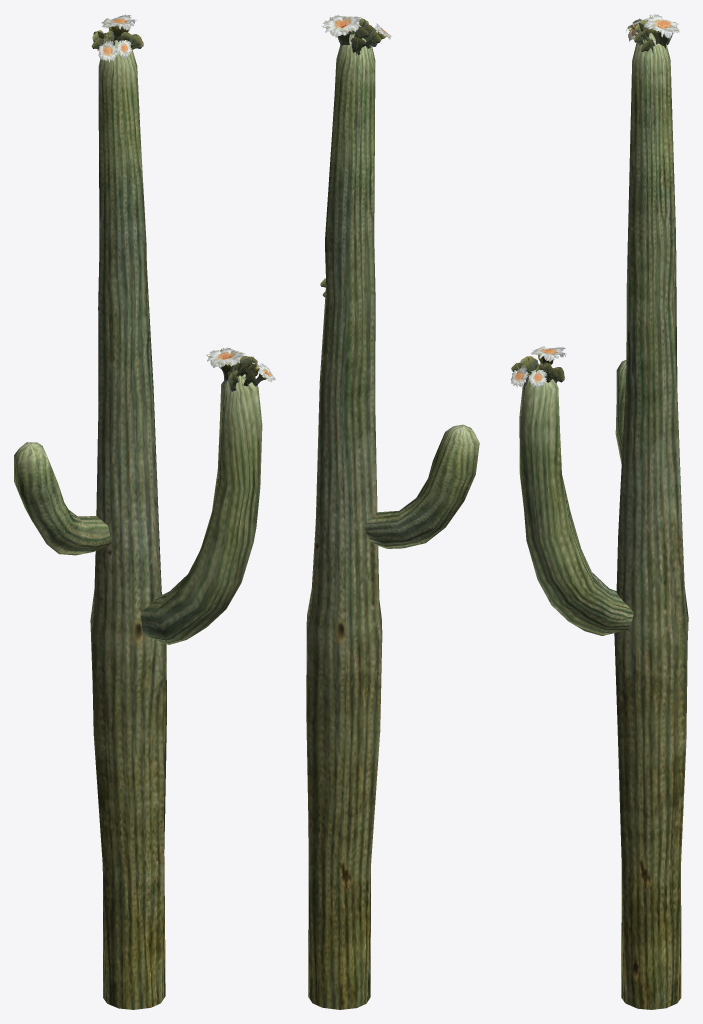
The model's file is DesertPlant01_FlowerC.FBX.
3 views of the same model, side by side, from view 1: azimuth 30°, elevation 25°; view 2: azimuth 150°, elevation 25°; view 3: azimuth 270°, elevation 25° (orthographic).
Parts seen in each view (by area): view 1: DesertPlant01_FlowerC; view 2: DesertPlant01_FlowerC; view 3: DesertPlant01_FlowerC.
Part boxes in pixels (x1,y1,x2,y2): DesertPlant01_FlowerC: [14, 14, 275, 1009]; DesertPlant01_FlowerC: [306, 15, 479, 1009]; DesertPlant01_FlowerC: [511, 14, 688, 1009].
Size of the model in its own units: 6.84 by 31.53 by 5.3.
Materials: 2 (2 with a texture image).
